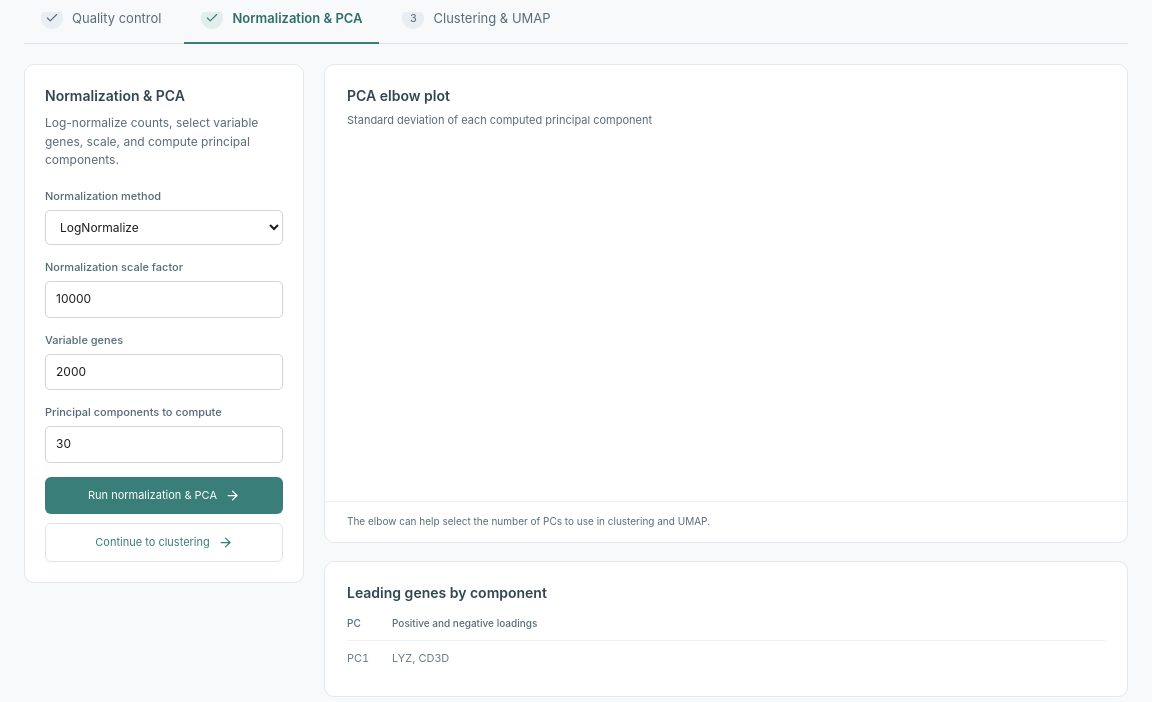
public analysis demo › prevents continuing with stale PCA after processing parameters change
(page scrolled)
Replace the text in the field labelled "Variable genes" with "1500" at (164, 372), box [45,354,283,390]
(page scrolled)
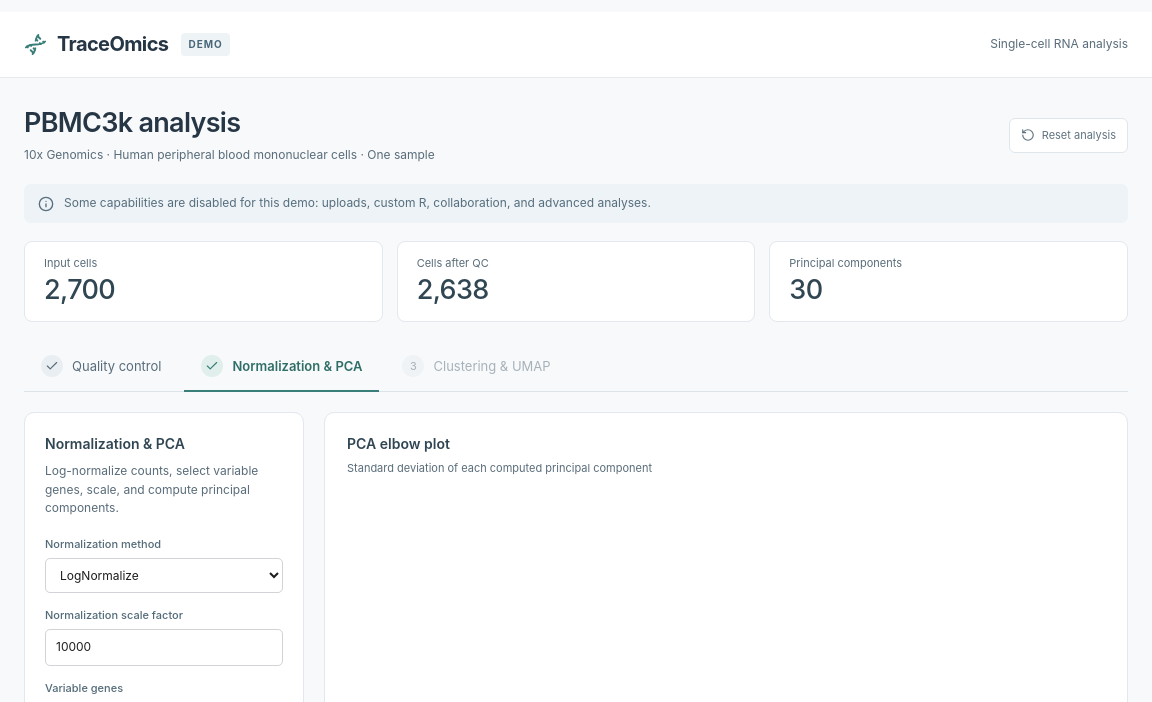
Result: the tab "3 Clustering & UMAP" is disabled at [386,344,568,392]
